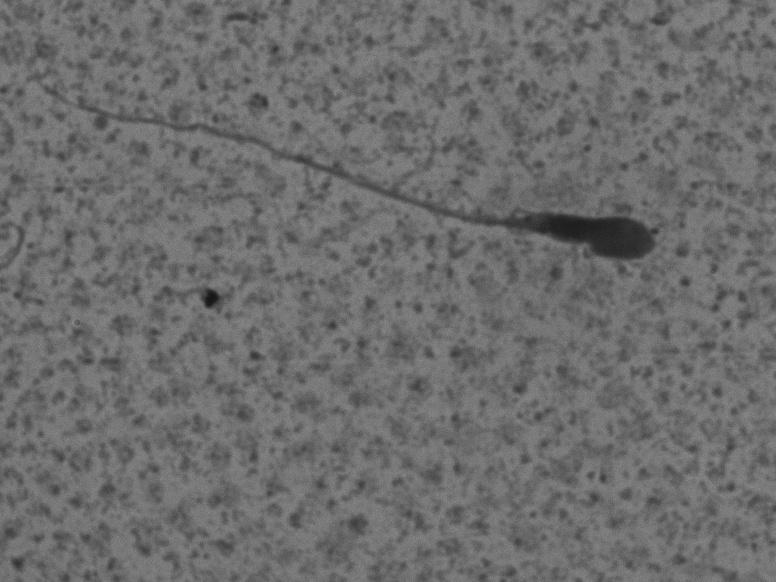Abnormal: (12, 65, 697, 270)
